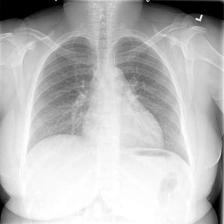normal: (25, 32, 192, 167)
